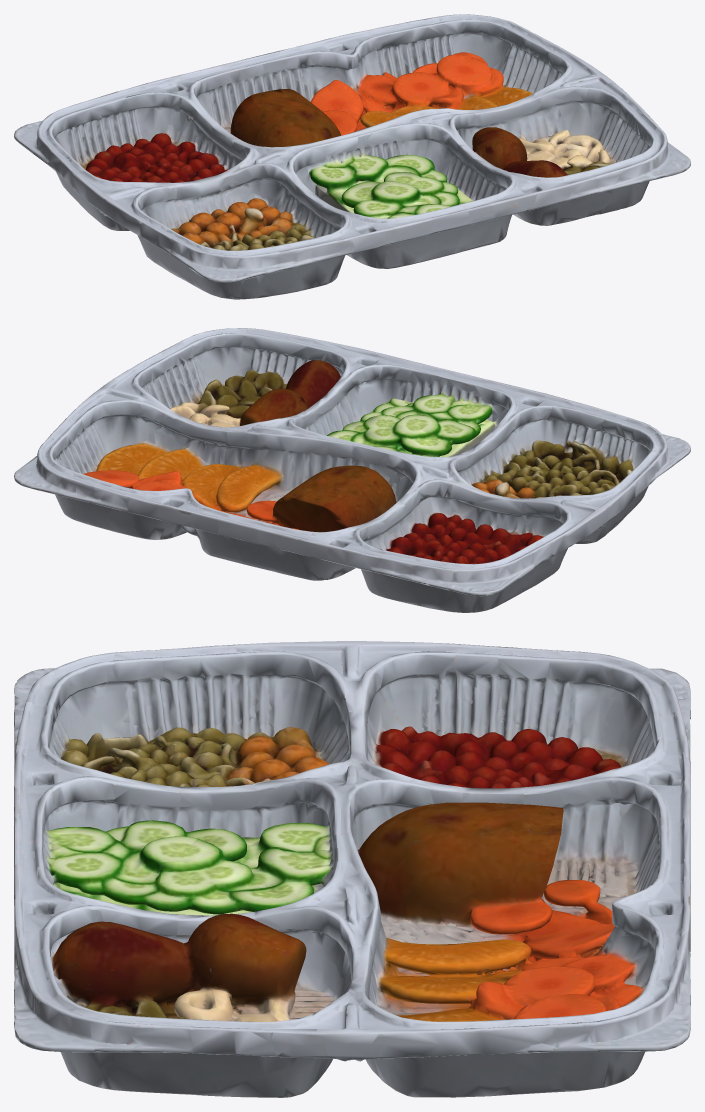
File: Standard_veg.glb
The picture shows the model from 3 angles, top to bottom: view 1: azimuth 30°, elevation 25°; view 2: azimuth 150°, elevation 25°; view 3: azimuth 270°, elevation 25°; orthographic projection. The views are drawn at different scales.
Visible parts, largest first — view 1: mesh_node; view 2: mesh_node; view 3: mesh_node.
Part boxes in pixels (x1,y1,x2,y2): mesh_node: (14,14,690,299); mesh_node: (14,328,690,612); mesh_node: (14,641,690,1097).
Size of the model in its own units: 1.9 by 0.206 by 1.38.
1 material, 1 textured.
